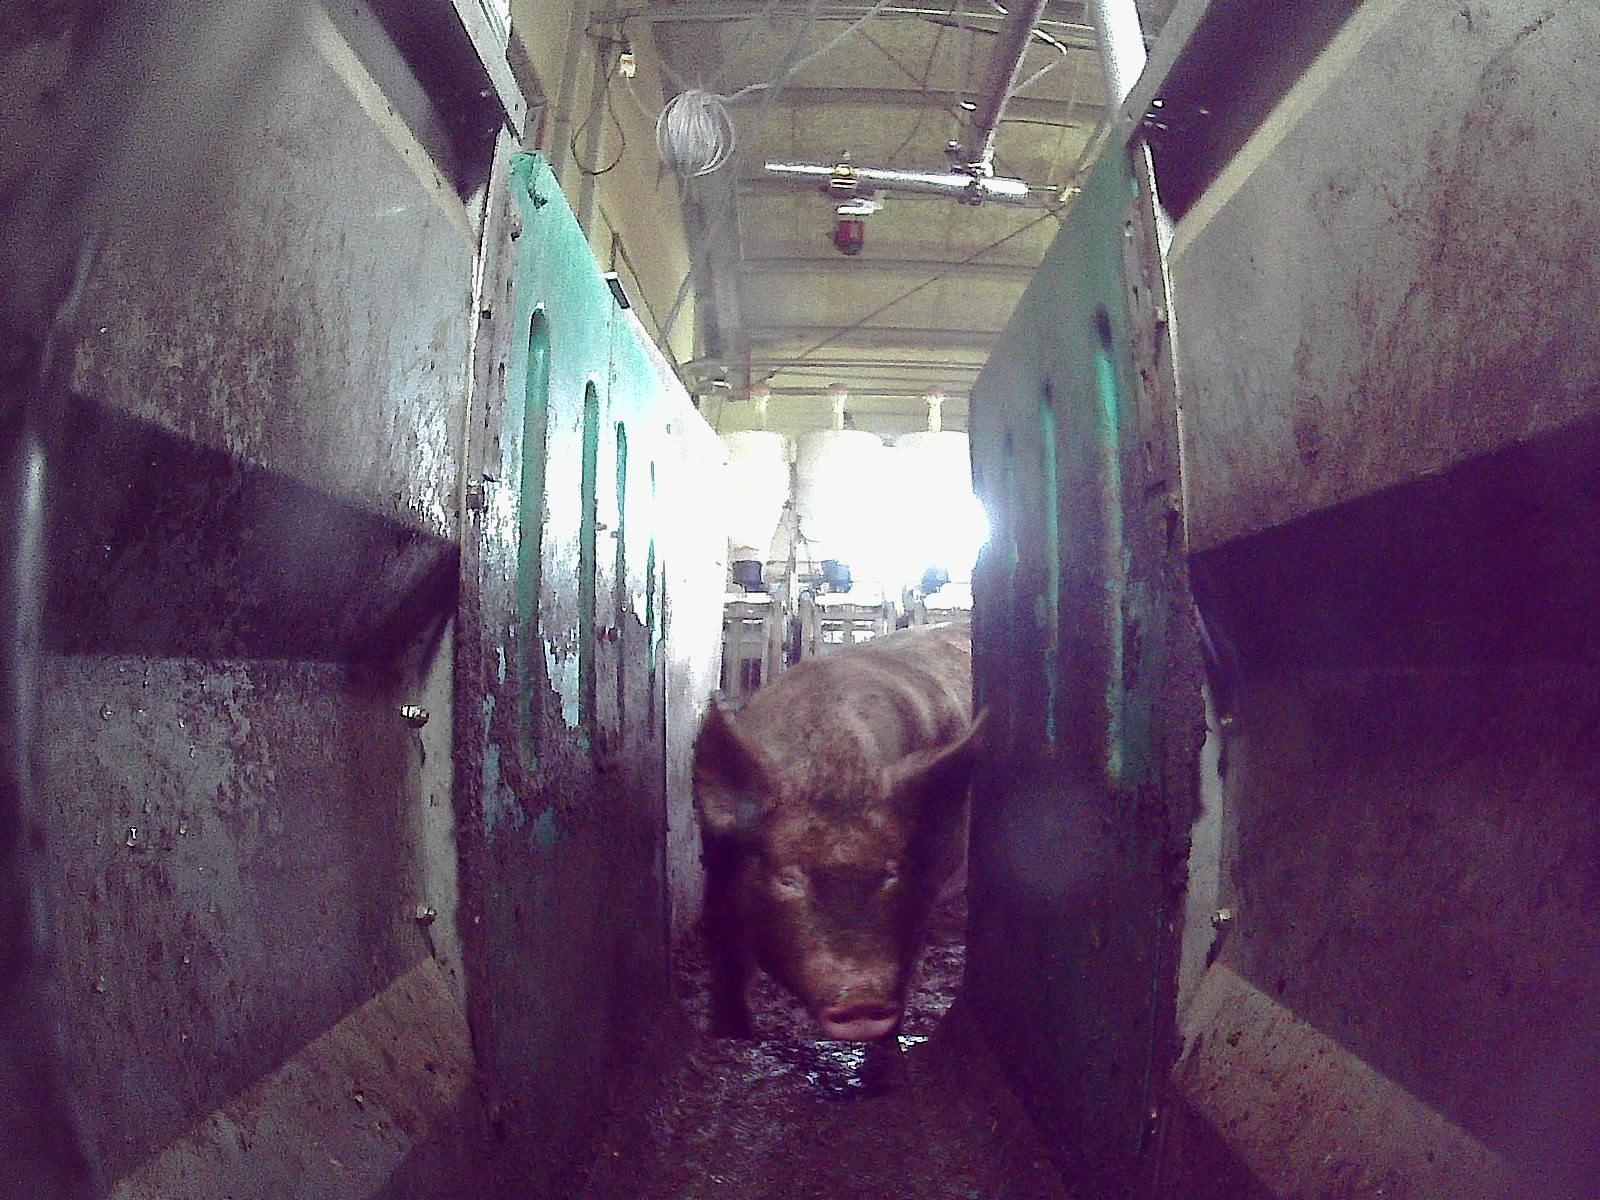Face: (737, 770, 915, 1041)
